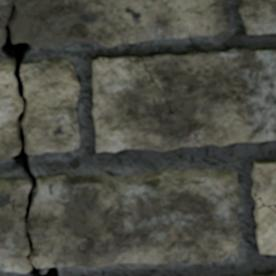brick: (92, 47, 275, 151), (239, 0, 275, 33), (255, 201, 275, 253), (252, 160, 275, 203), (254, 273, 275, 275)
broken_brick: (27, 167, 241, 268), (0, 0, 231, 48), (21, 58, 81, 155), (0, 177, 30, 274), (0, 59, 21, 160)
crack: (0, 2, 59, 275), (127, 56, 175, 115), (253, 194, 275, 214)
